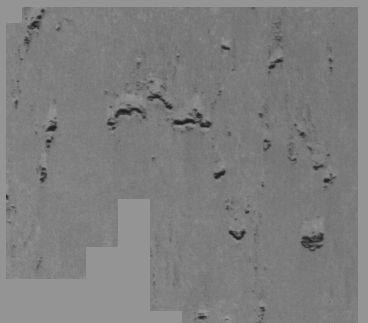oxl: (35, 10, 333, 313)
